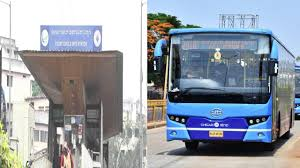Chigari: (154, 24, 300, 155)
